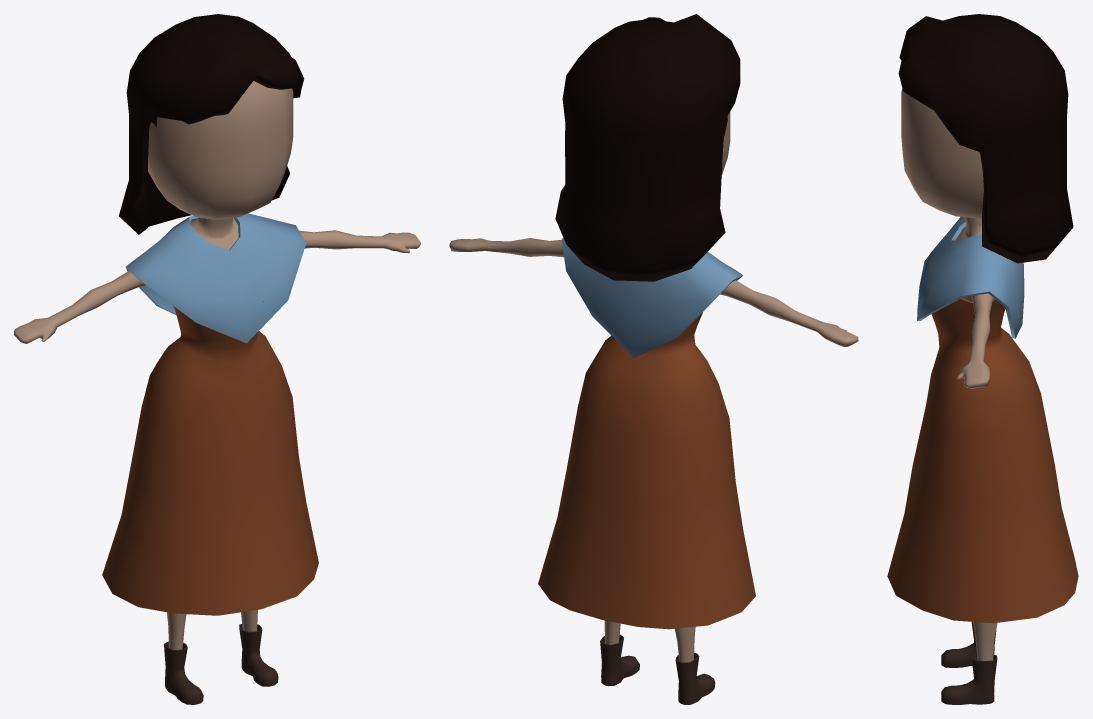
Rendered from AP_milkMaid01.fbx.
3 renders of one model, left to right at view 1: azimuth 30°, elevation 25°; view 2: azimuth 150°, elevation 25°; view 3: azimuth 270°, elevation 25°, orthographic.
Parts seen in each view (by area): view 1: milkMaid_base2; view 2: milkMaid_base2; view 3: milkMaid_base2.
Boxes of the visible parts, bbox=[...] form: milkMaid_base2: bbox=[14, 14, 420, 704]; milkMaid_base2: bbox=[449, 14, 858, 704]; milkMaid_base2: bbox=[887, 14, 1078, 704].
Bounding box in the file's own units: 97.02 × 151 × 39.97.
